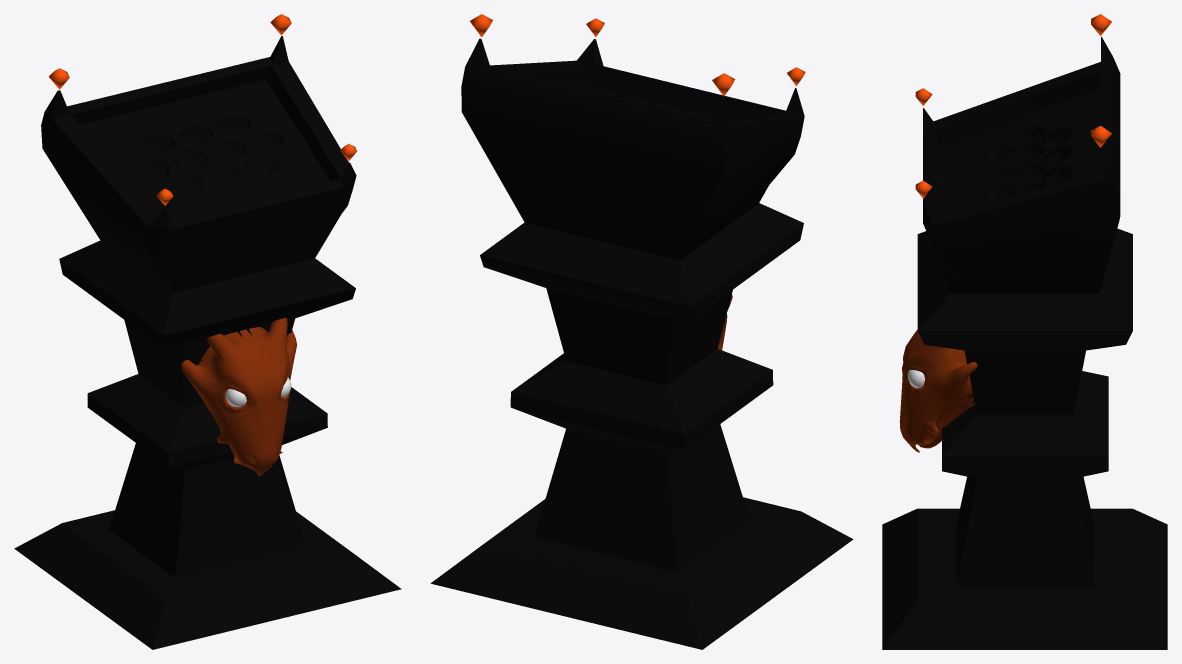
The model's file is socledrag.fbx.
The picture shows the model from 3 angles, left to right: view 1: azimuth 30°, elevation 25°; view 2: azimuth 150°, elevation 25°; view 3: azimuth 270°, elevation 25°; orthographic projection. The views are drawn at different scales.
Visible parts, largest first — view 1: Box001, Sphere002; view 2: Box001, Sphere002; view 3: Box001, Sphere002.
Part boxes in pixels (left/top/right/bottom): Box001: left=14, top=36, right=401, bottom=649; Sphere002: left=48, top=14, right=357, bottom=205; Box001: left=430, top=38, right=853, bottom=649; Sphere002: left=470, top=14, right=805, bottom=96; Box001: left=882, top=36, right=1167, bottom=649; Sphere002: left=915, top=14, right=1111, bottom=198.
Bounding box in the file's own units: 30.3 × 58.23 × 29.16.
